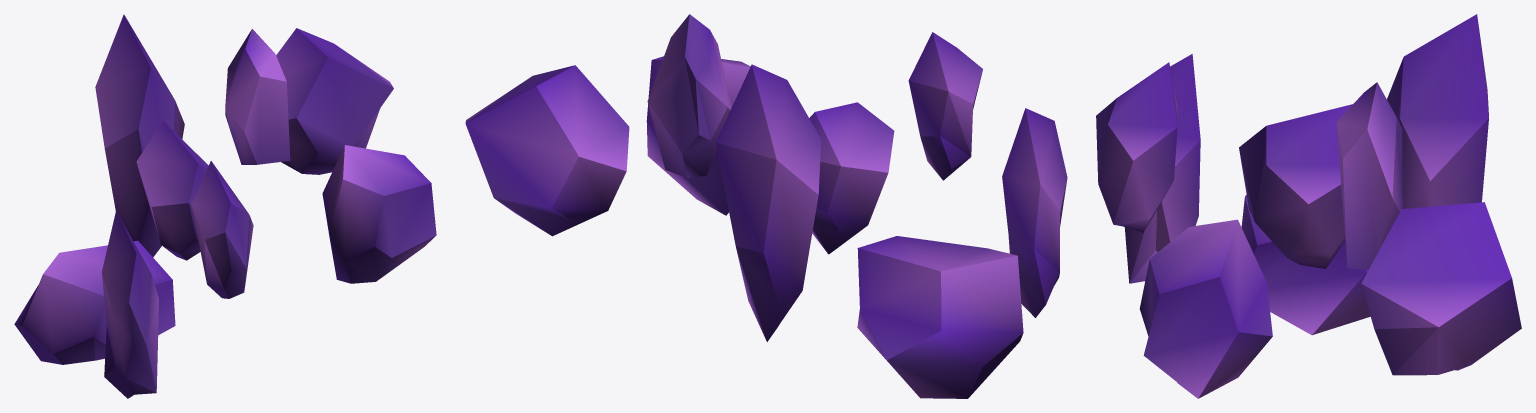
The model's file is gems.fbx.
The picture shows the model from 3 angles, left to right: view 1: azimuth 30°, elevation 25°; view 2: azimuth 150°, elevation 25°; view 3: azimuth 270°, elevation 25°; orthographic projection. The views are drawn at different scales.
Visible parts, largest first — view 1: Gem, Gem1, Gem7, Gem2, Gem3, Gem4, Gem5, Gem6; view 2: Gem2, Gem7, Gem1, Gem3, Gem4, Gem5, Gem6, Gem; view 3: Gem1, Gem, Gem7, Gem5, Gem6, Gem4, Gem2, Gem3.
Part boxes in pixels (x1,y1,x2,y2): Gem: (322, 145, 436, 283); Gem1: (276, 28, 393, 174); Gem7: (95, 14, 184, 257); Gem2: (14, 240, 175, 364); Gem3: (101, 210, 158, 398); Gem4: (225, 29, 290, 164); Gem5: (136, 121, 208, 260); Gem6: (191, 161, 253, 298); Gem2: (857, 236, 1023, 398); Gem7: (715, 64, 821, 341); Gem1: (465, 65, 629, 236); Gem3: (1002, 108, 1067, 317); Gem4: (647, 14, 731, 177); Gem5: (809, 102, 894, 254); Gem6: (908, 32, 982, 180); Gem: (646, 56, 750, 215); Gem1: (1361, 202, 1521, 375); Gem: (1139, 219, 1272, 398); Gem7: (1387, 14, 1488, 208); Gem5: (1239, 104, 1352, 268); Gem6: (1096, 62, 1177, 232); Gem4: (1336, 82, 1403, 269); Gem2: (1241, 195, 1370, 335); Gem3: (1124, 54, 1200, 283).
Bounding box in the file's own units: 0.025 × 0.0161 × 0.0171.
